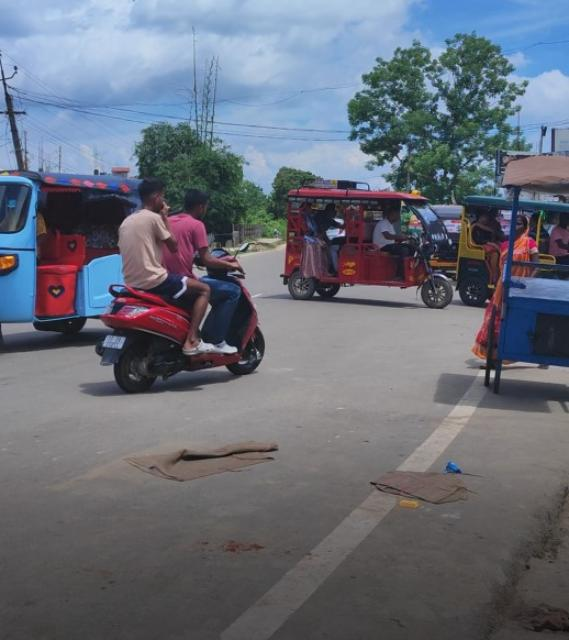licensePlate: (97, 335, 125, 350)
motorcycle: (94, 178, 266, 389)
withoutHelmet: (137, 179, 162, 212), (182, 189, 208, 219)
